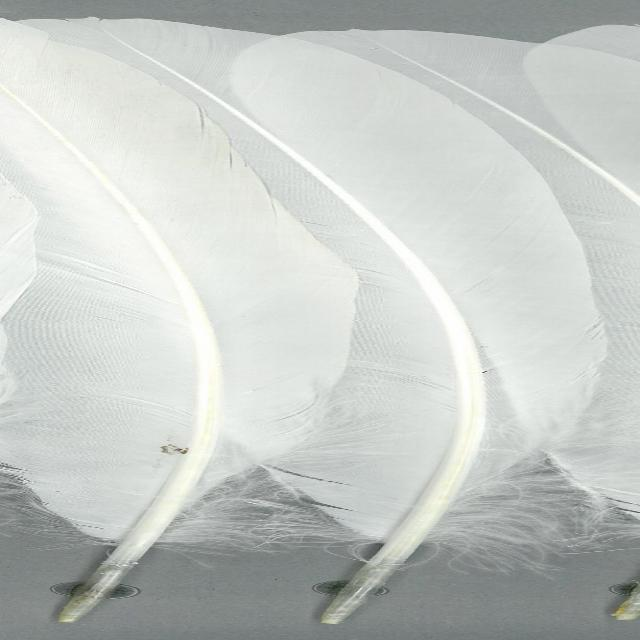feather: (0, 18, 611, 626), (0, 18, 360, 624)
